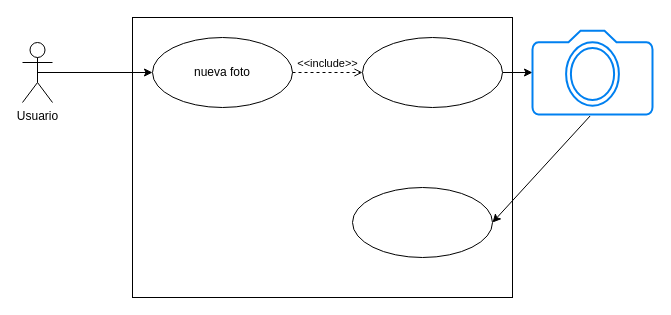
Some shapes in this 671 by 315 pixel diagram are drawn without their labels. Each missing label, with the centre of its shape:
abrir camara: [432,72]
captura de foto: [422,222]
